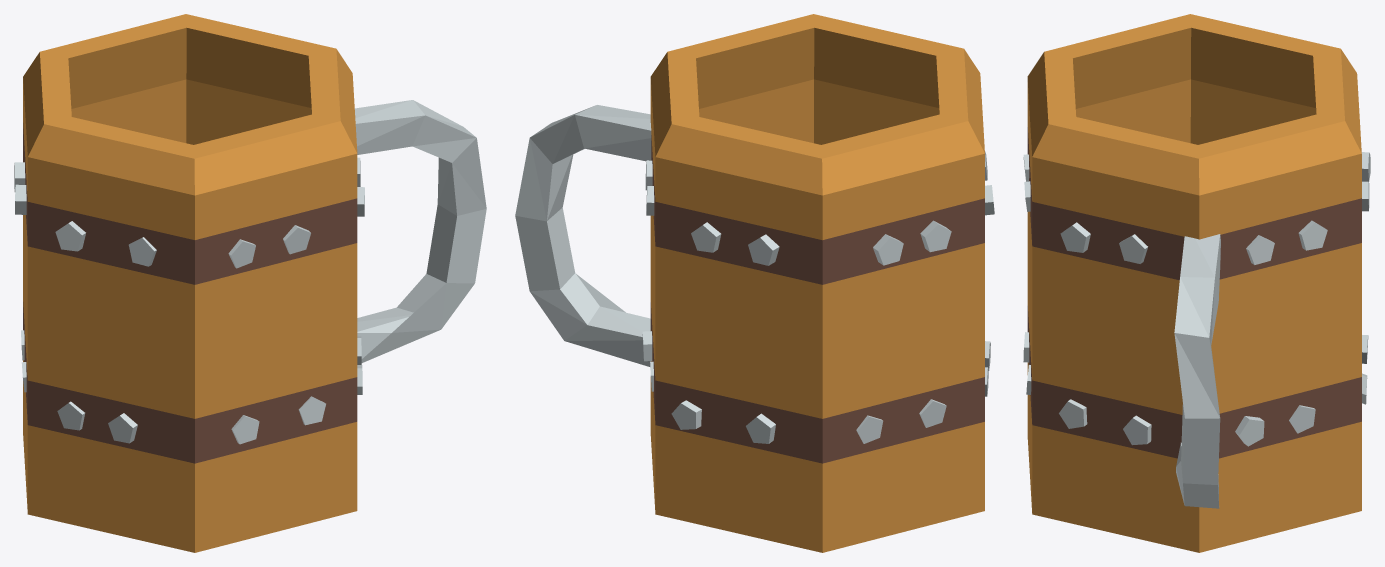
File: michelada.glb
3 views of the same model, side by side, from view 1: azimuth 30°, elevation 25°; view 2: azimuth 150°, elevation 25°; view 3: azimuth 270°, elevation 25° (orthographic).
Visible parts, largest first — view 1: group191048200; view 2: group191048200; view 3: group191048200.
Part boxes in pixels (left/top/right/bottom): group191048200: left=14, top=14, right=486, bottom=552; group191048200: left=515, top=14, right=994, bottom=552; group191048200: left=1023, top=14, right=1370, bottom=552.
Bounding box in the file's own units: 3.02 × 2.44 × 1.99.
